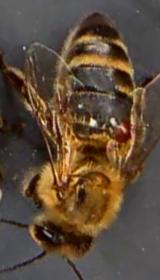varroa_mite: (92, 115, 133, 149)
